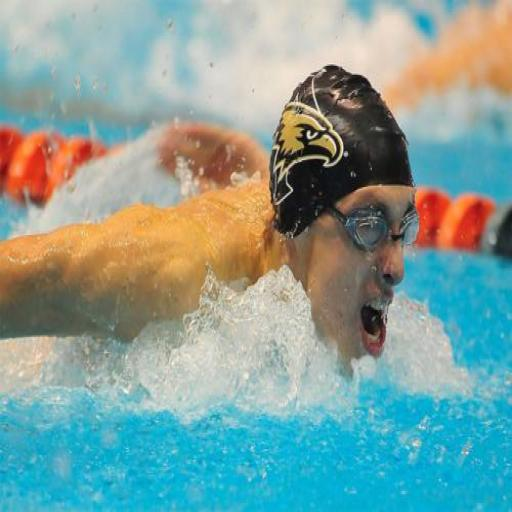swimming: (0, 61, 472, 403)
